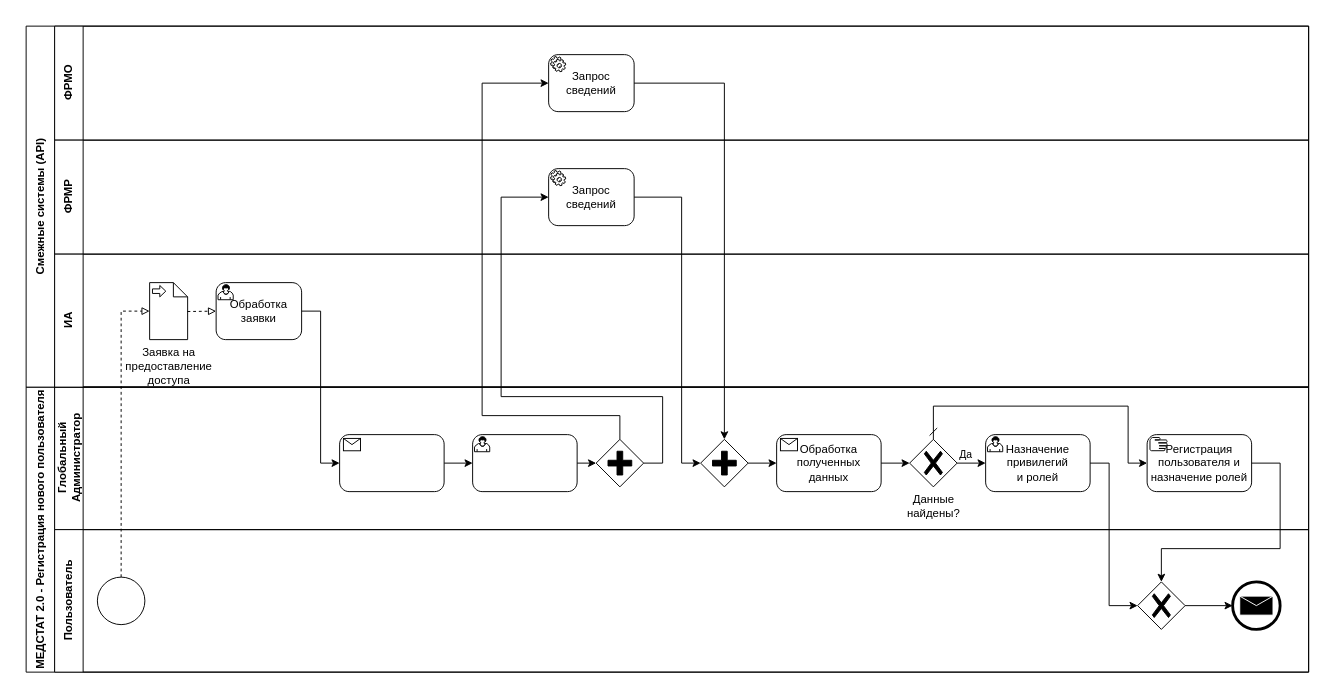
This 1334x697 diagram has some shape labels left out. The shapes that lost their labels are listed below. From the top down, each one's centre as x and y in pixels, then its label:
(x=391, y=463): Заявна на регистрацию пользователя
(x=524, y=463): Запрос данных о пользователе и организации
